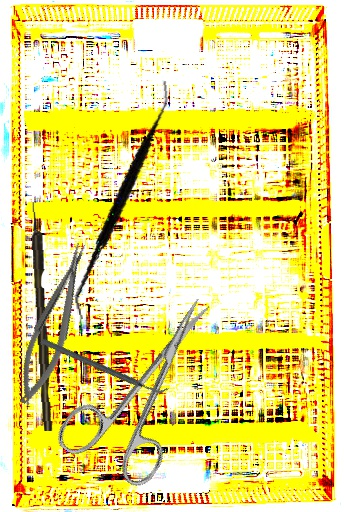Chopper: (39, 299, 170, 433)
Hook Surgical: (30, 201, 53, 432)
Iris Scissors: (51, 275, 250, 499)
Needle Holder: (6, 239, 103, 410)
Spatula Surgical: (43, 80, 203, 320)
